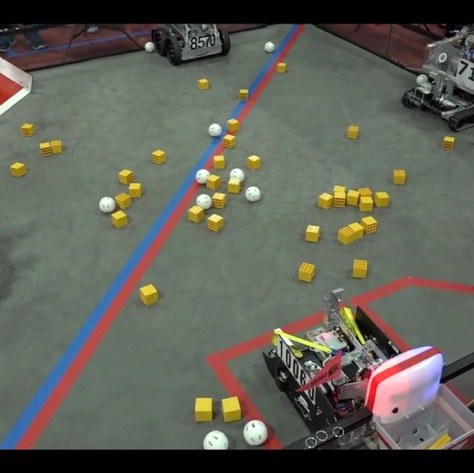robot: (261, 286, 407, 440), (400, 25, 473, 130), (147, 19, 233, 70)
